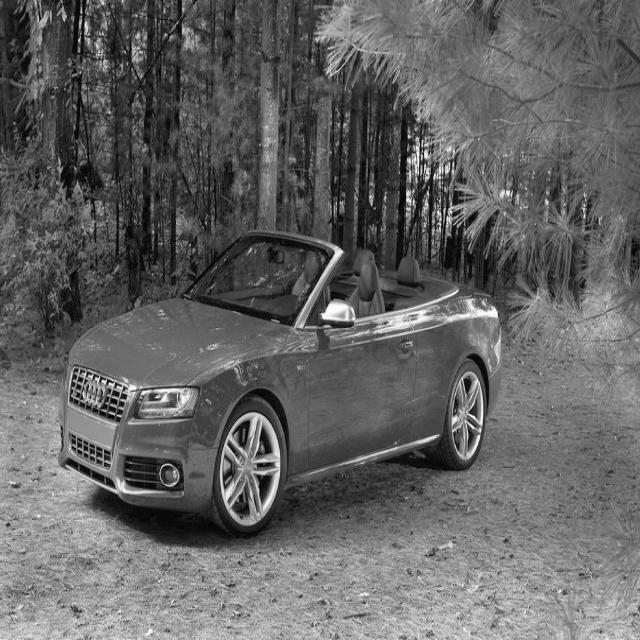car: (57, 227, 503, 538)
